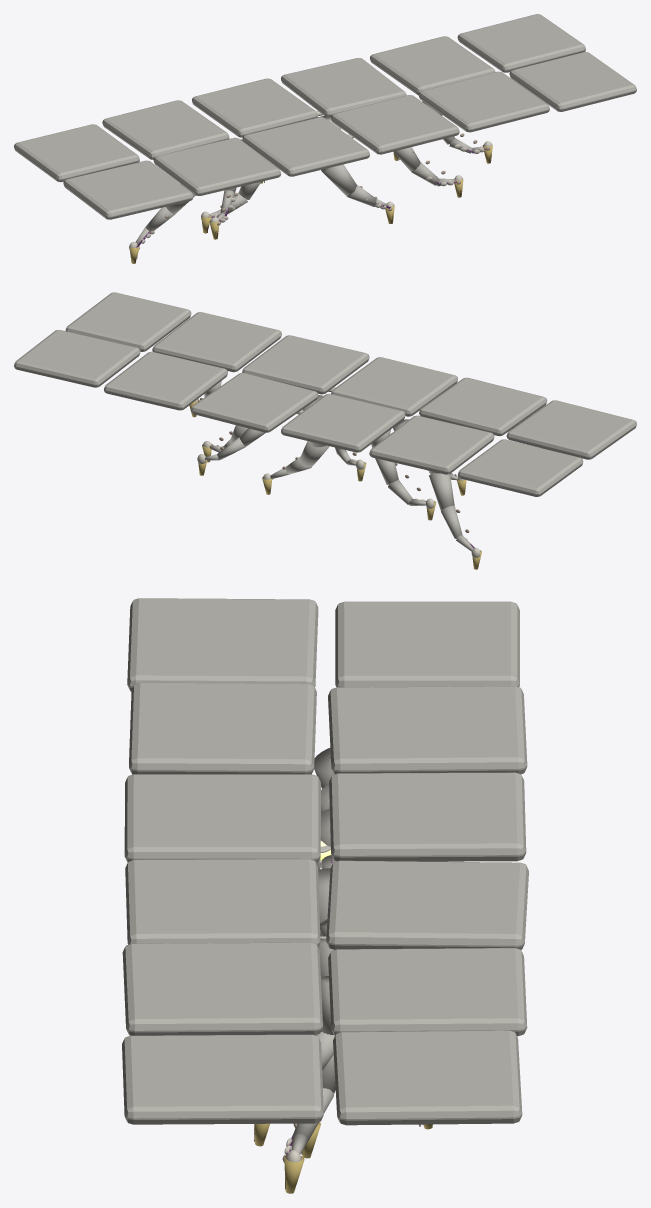
The picture shows the model from 3 angles, top to bottom: view 1: azimuth 30°, elevation 25°; view 2: azimuth 150°, elevation 25°; view 3: azimuth 270°, elevation 25°; orthographic projection. The views are drawn at different scales.
Visible parts, largest first — view 1: tile_skin_05, tile_skin_01, tile_skin_04, tile_skin_06, tile_skin_03, tile_skin_02, tile_skin_12, tile_skin_09, tile_skin_08, tile_skin_10, tile_skin_07, tile_skin_11 (+2 smaller); view 2: tile_skin_01, tile_skin_05, tile_skin_10, tile_skin_08, tile_skin_12, tile_skin_09, tile_skin_11, tile_skin_02, tile_skin_04, tile_skin_07, tile_skin_06, tile_skin_03 (+3 smaller); view 3: tile_skin_05, tile_skin_06, tile_skin_10, tile_skin_09, tile_skin_12, tile_skin_02, tile_skin_08, tile_skin_03, tile_skin_11, tile_skin_04, tile_skin_01, tile_skin_07.
Boxes of the visible parts, box(x1,y1,x2,y2) form: tile_skin_05: box(418, 71, 549, 132); tile_skin_01: box(63, 160, 193, 219); tile_skin_04: box(331, 95, 459, 154); tile_skin_06: box(509, 52, 636, 111); tile_skin_03: box(242, 117, 369, 176); tile_skin_02: box(153, 137, 281, 195); tile_skin_12: box(457, 14, 585, 72); tile_skin_09: box(192, 78, 317, 137); tile_skin_08: box(102, 100, 229, 159); tile_skin_10: box(281, 58, 406, 117); tile_skin_07: box(14, 124, 139, 182); tile_skin_11: box(370, 36, 495, 95); tile_skin_01: box(506, 400, 636, 459); tile_skin_05: box(152, 312, 281, 372); tile_skin_10: box(190, 372, 318, 432); tile_skin_08: box(369, 415, 494, 474); tile_skin_12: box(14, 330, 140, 387); tile_skin_09: box(281, 393, 405, 452); tile_skin_11: box(104, 351, 227, 410); tile_skin_02: box(419, 377, 547, 436); tile_skin_04: box(242, 335, 369, 394); tile_skin_07: box(458, 439, 583, 496); tile_skin_06: box(65, 292, 191, 351); tile_skin_03: box(331, 357, 457, 416); tile_skin_05: box(122, 942, 322, 1035); tile_skin_06: box(122, 1034, 323, 1124); tile_skin_10: box(326, 860, 528, 949); tile_skin_09: box(329, 772, 526, 861); tile_skin_12: box(333, 1030, 522, 1125); tile_skin_02: box(129, 682, 316, 774); tile_skin_08: box(328, 686, 527, 774); tile_skin_03: box(124, 774, 320, 863); tile_skin_11: box(328, 948, 527, 1036); tile_skin_04: box(125, 859, 320, 946); tile_skin_01: box(127, 598, 318, 691); tile_skin_07: box(335, 601, 519, 687).
Size of the model in its own units: 3.47 by 0.7756 by 1.15.
